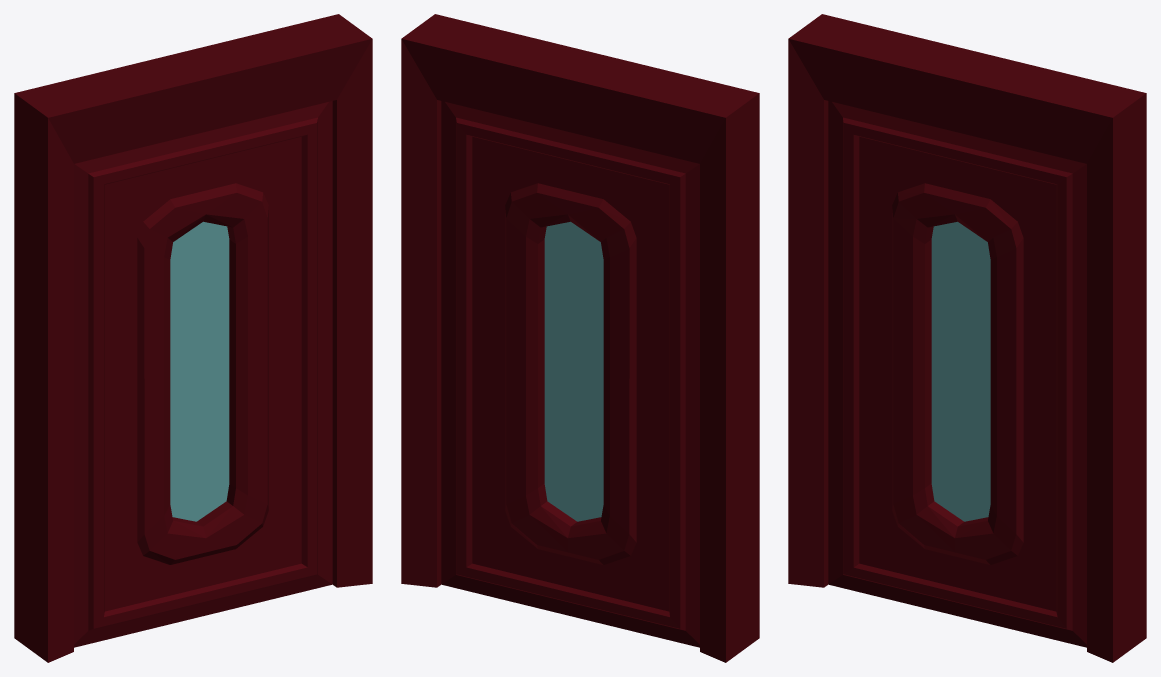
Rendered from Door.fbx.
3 views of the same model, side by side, from view 1: azimuth 30°, elevation 25°; view 2: azimuth 150°, elevation 25°; view 3: azimuth 330°, elevation 25° (orthographic).
Visible parts, largest first — view 1: Door, Frame_Door, Door_Glass; view 2: Door, Frame_Door, Door_Glass; view 3: Door, Frame_Door, Door_Glass.
Part boxes in pixels (box(x1,y1,x2,y2)): Door: box(74, 101, 332, 647); Frame_Door: box(14, 14, 372, 662); Door_Glass: box(170, 221, 229, 521); Door: box(441, 101, 699, 647); Frame_Door: box(401, 14, 759, 662); Door_Glass: box(544, 221, 603, 521); Door: box(828, 101, 1086, 647); Frame_Door: box(788, 14, 1146, 662); Door_Glass: box(931, 221, 990, 521).
Size of what is drawn, in the model's own units: 2.47 by 3.96 by 0.4452.
